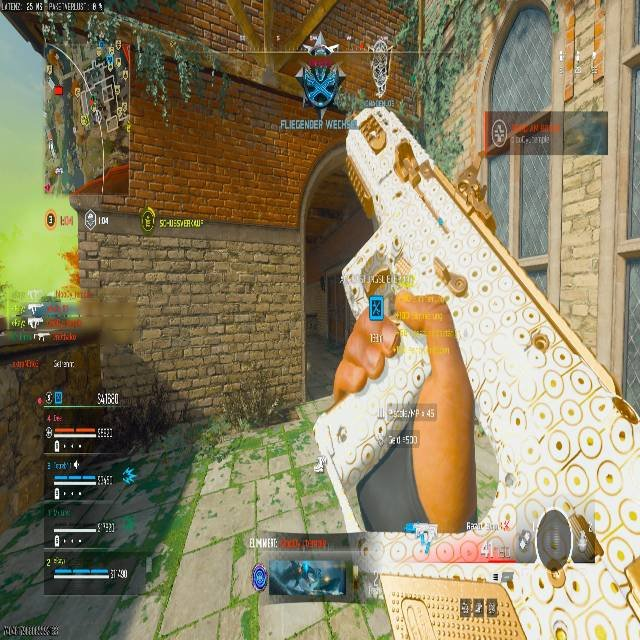player: (301, 78, 471, 531), (296, 59, 348, 123)
